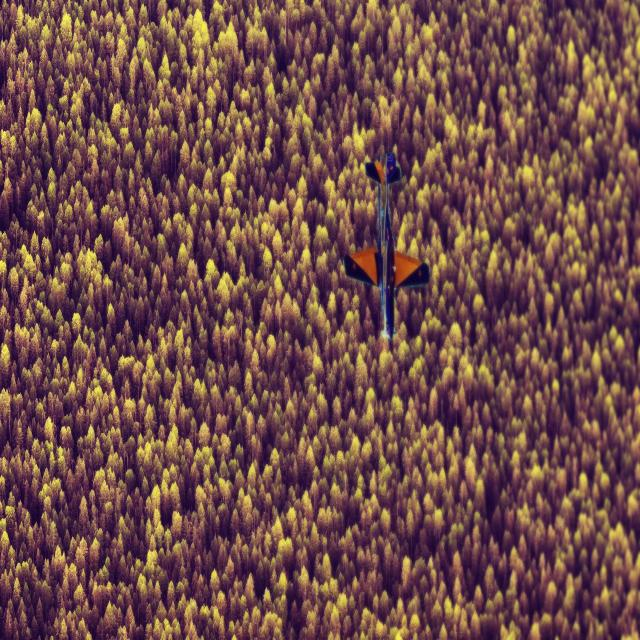airplane: (342, 151, 430, 341)
